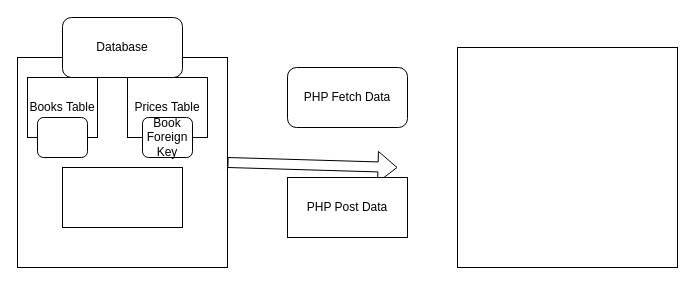
The diagram is 695 pixels wide and 285 high, and some of its shapes have lost their labels. Each missing label, with the centre of its shape:
"Book/Prices Primary Key" goes at point 122,197.
"Posted Database to HTML Table Updated on load" goes at point 567,157.
"Prices Foreign Key" goes at point 62,137.
